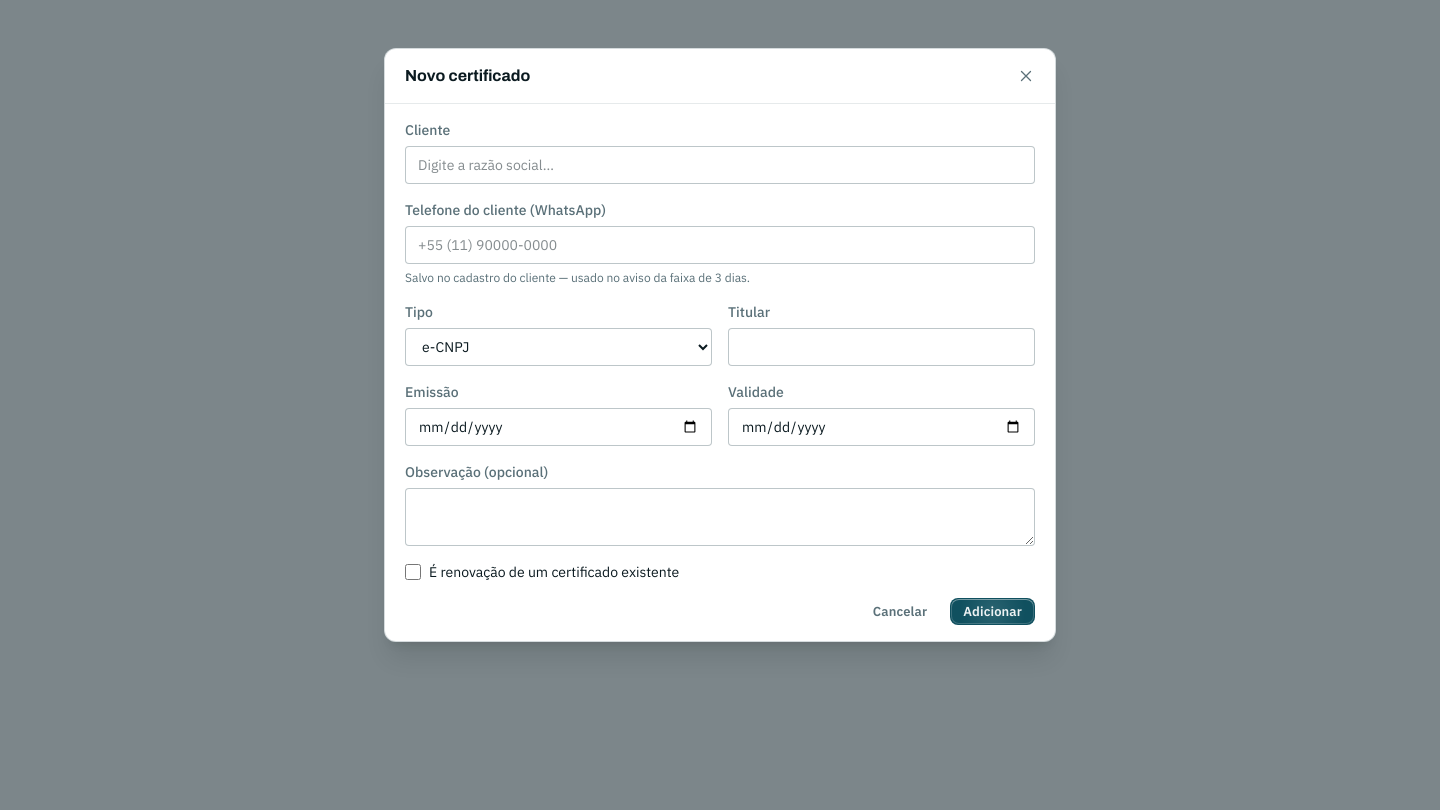
Scenario: ModalCertificado › marcar 'e renovacao' revela o select de certificado anterior
The width and height of the screenshot is (1440, 810).
What coordinates should you click on to do the following:
click the checkbox labelled "É renovação de um certificado existente"
I would click on:
 (413, 572)
Its box is [405, 564, 421, 580].
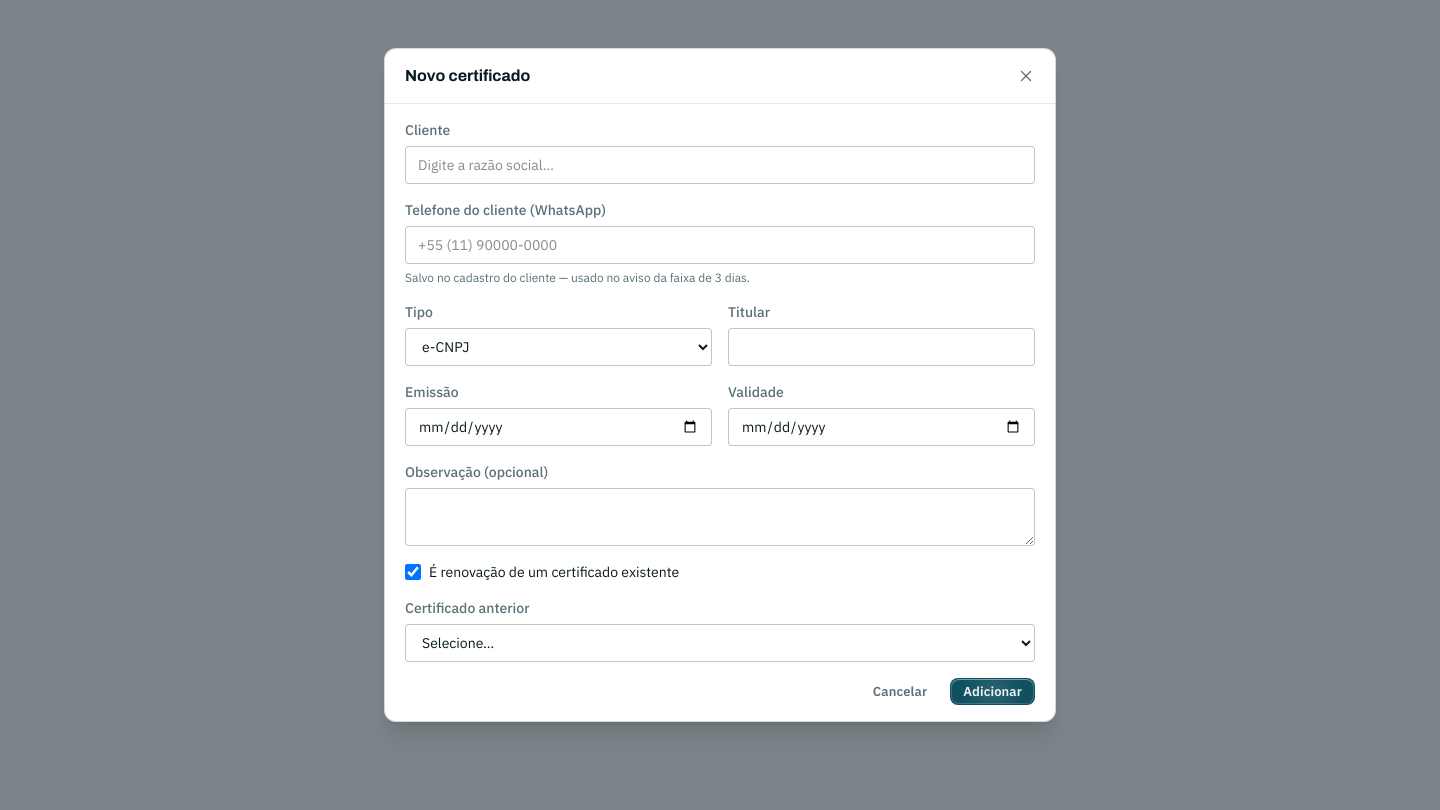
Expected: the dropdown labelled "Certificado anterior" is shown, [405, 624, 1035, 662]
